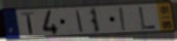1: (89, 6, 102, 34)
4: (42, 9, 61, 36)
I: (118, 6, 128, 32), (75, 9, 85, 34)
L: (138, 6, 158, 31)
T: (20, 11, 36, 36)
